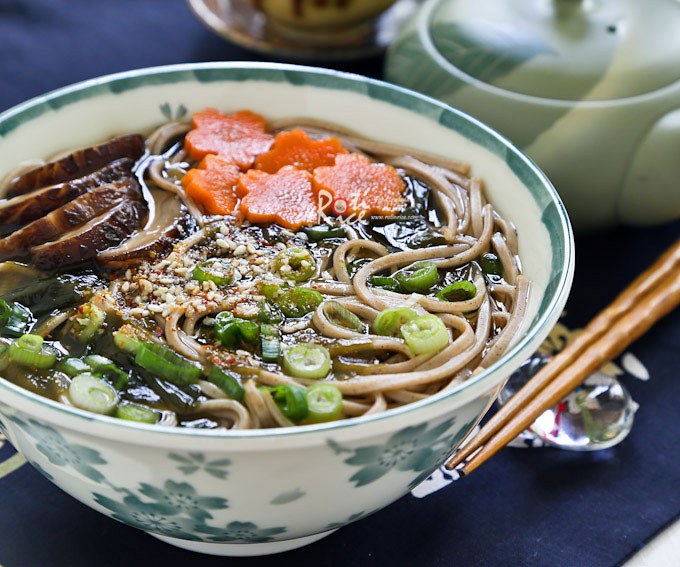Soba: (60, 102, 538, 405)
